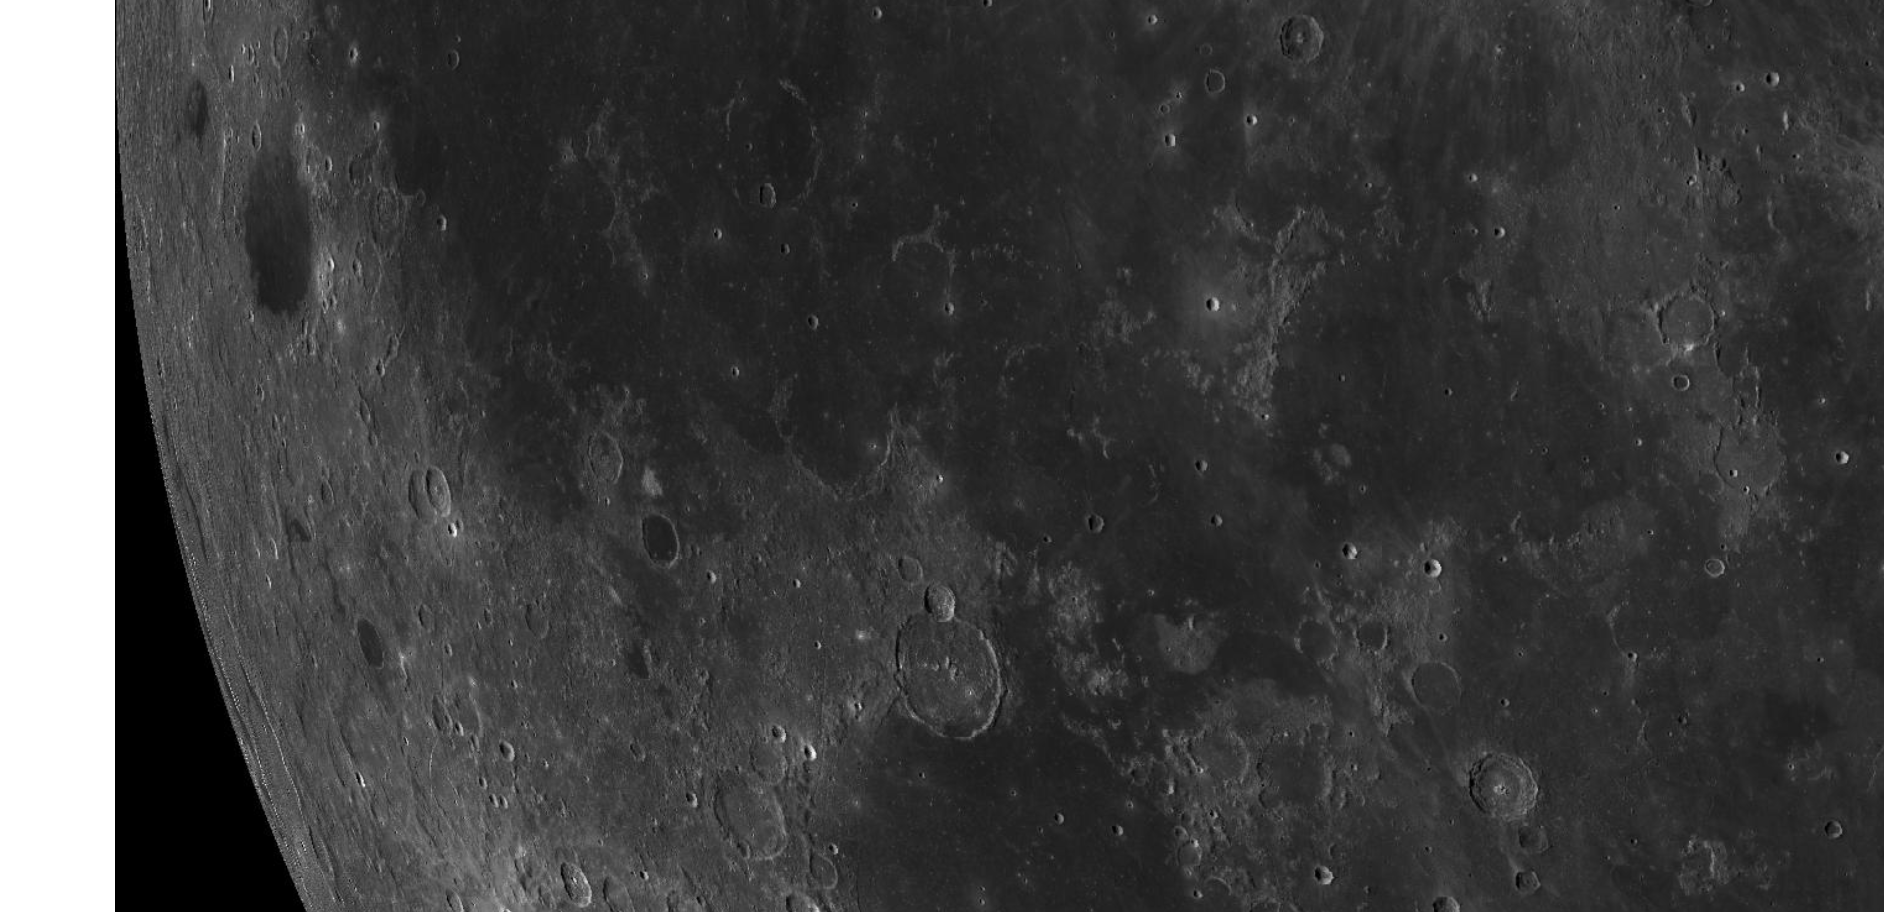crater: (875, 591, 1013, 765), (690, 744, 806, 878), (1453, 728, 1550, 828), (1153, 258, 1246, 341), (156, 65, 233, 162), (616, 493, 703, 576), (1642, 281, 1729, 362), (1802, 793, 1876, 878), (775, 281, 851, 362), (1128, 111, 1214, 181), (415, 32, 499, 99), (338, 610, 399, 695), (1813, 422, 1876, 502), (388, 461, 469, 517), (1272, 8, 1346, 68), (425, 192, 472, 263), (1749, 40, 1797, 105), (255, 14, 302, 68), (1691, 547, 1731, 604), (1655, 365, 1705, 410), (323, 32, 375, 72), (745, 172, 785, 220), (1191, 58, 1235, 99), (490, 721, 527, 763)
